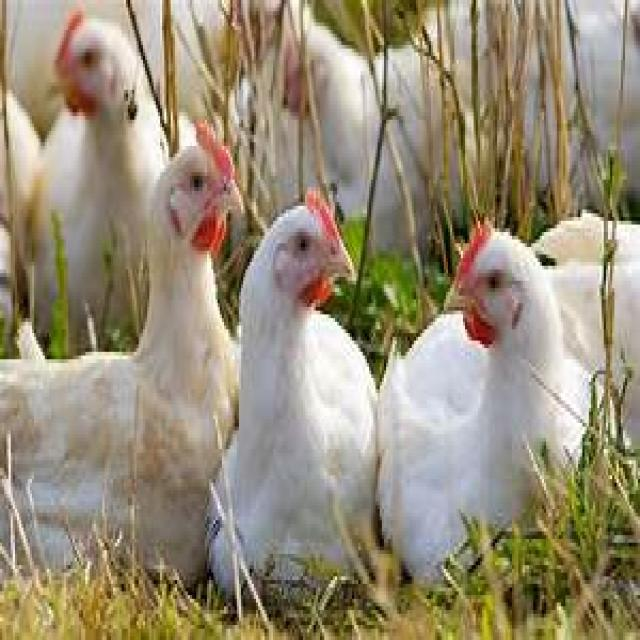chicken: (0, 116, 243, 595), (377, 205, 640, 587), (29, 6, 250, 334), (208, 183, 376, 614)
